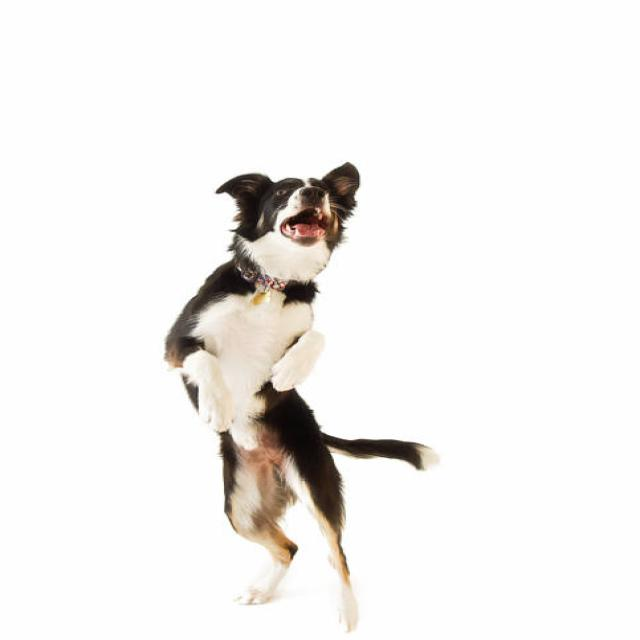BORDER_COLLIE: (136, 155, 470, 640)
